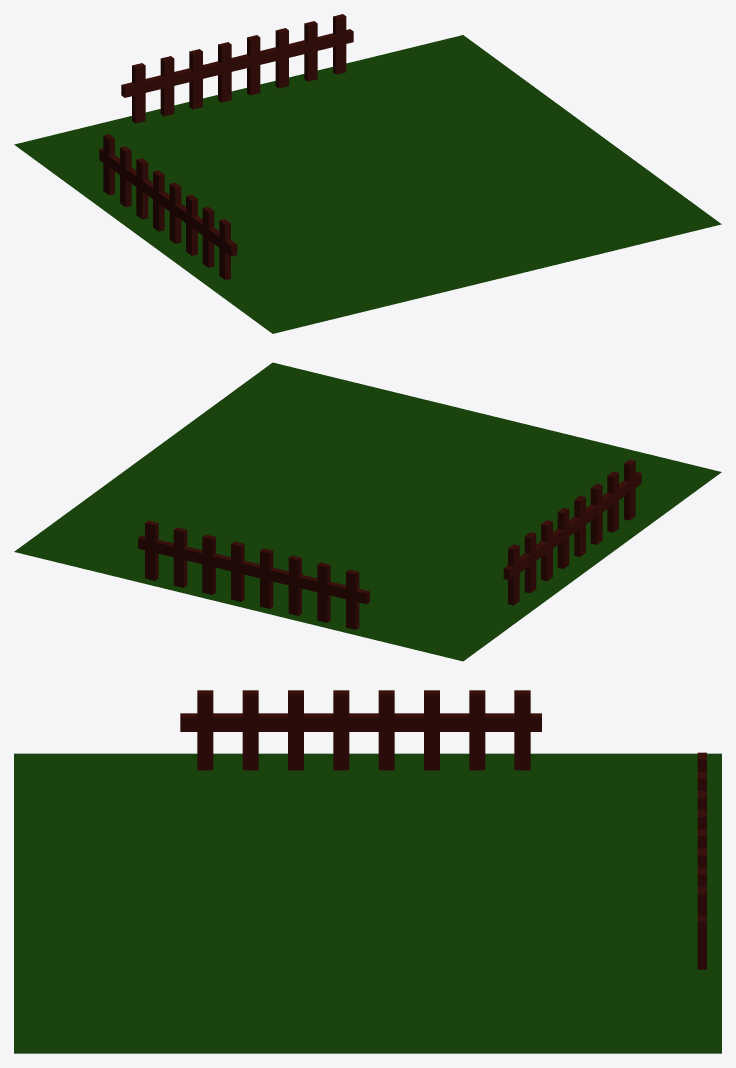
Rendered from corner.FBX.
3 views of the same model, one above another, from view 1: azimuth 30°, elevation 25°; view 2: azimuth 150°, elevation 25°; view 3: azimuth 270°, elevation 25° (orthographic). The views are drawn at different scales.
Visible parts, largest first — view 1: Box219; view 2: Box219; view 3: Box219.
Part boxes in pixels (bbox=[...]): Box219: bbox=[14, 14, 721, 333]; Box219: bbox=[14, 362, 721, 661]; Box219: bbox=[14, 690, 721, 1053].
Size of the model in its own units: 1580 by 198 by 1576.
